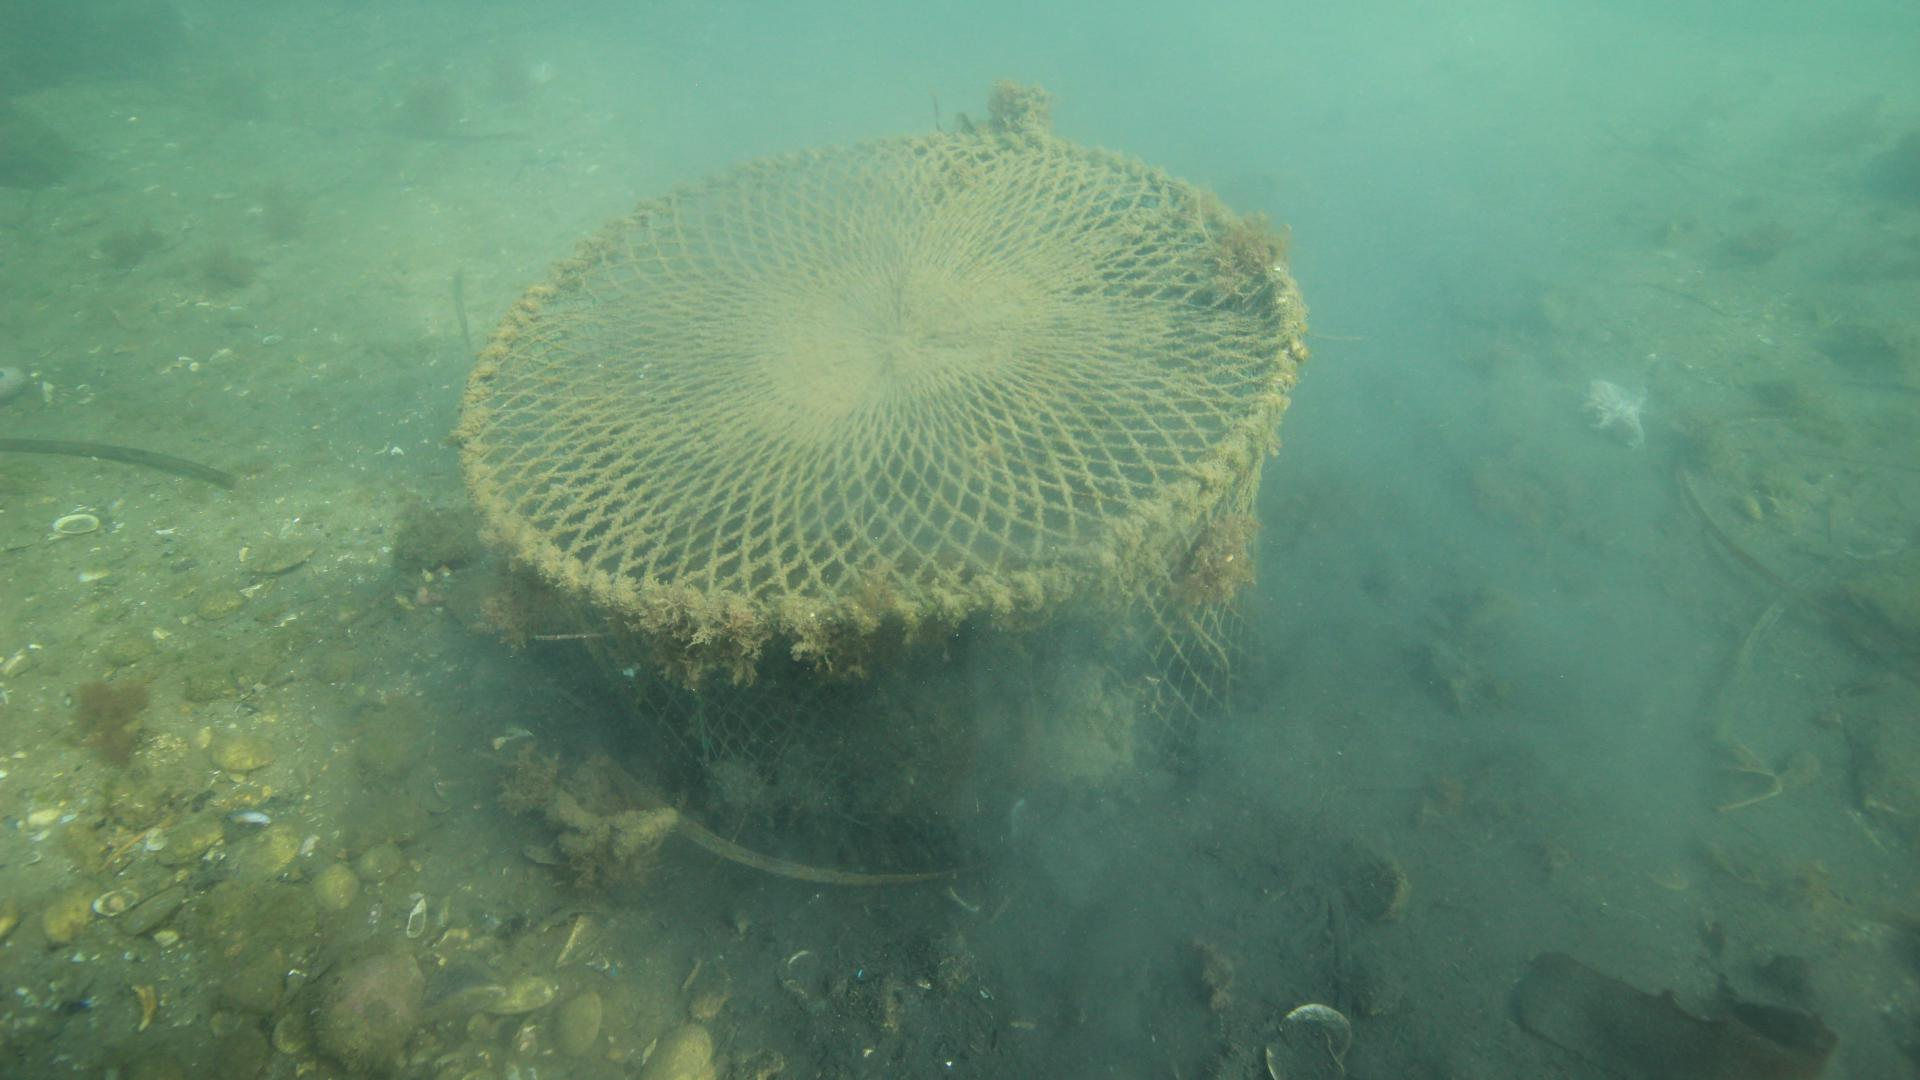circular fish trap: (454, 132, 1309, 844)
